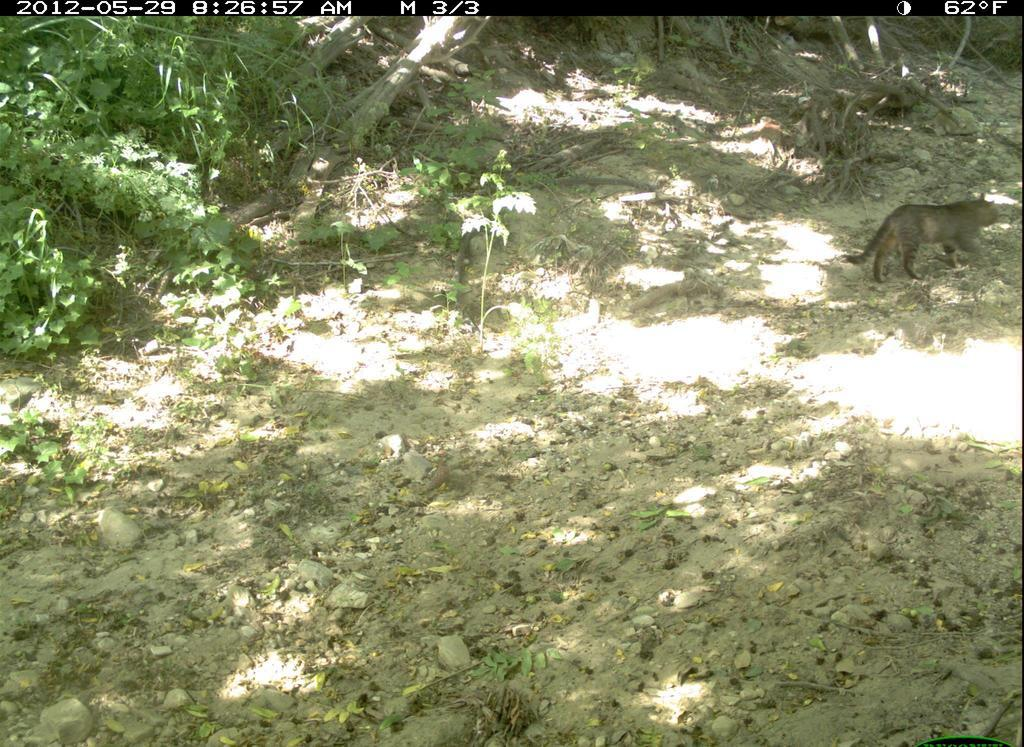cat: (844, 190, 1003, 295)
